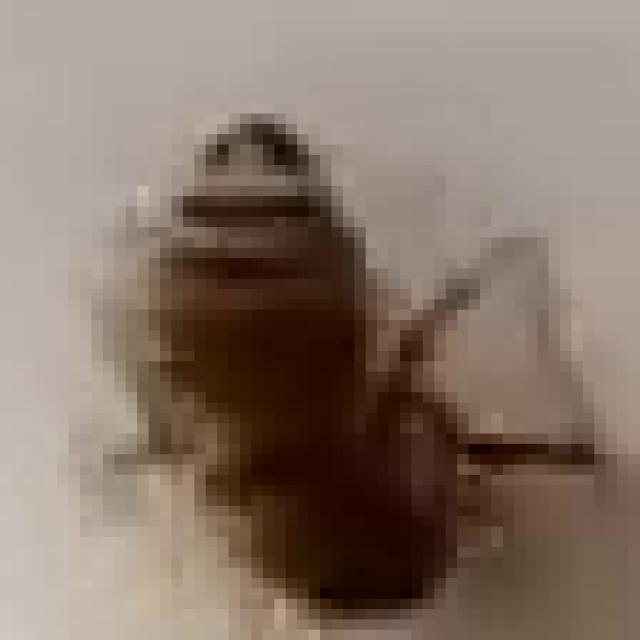honeybee: (111, 105, 570, 623)
